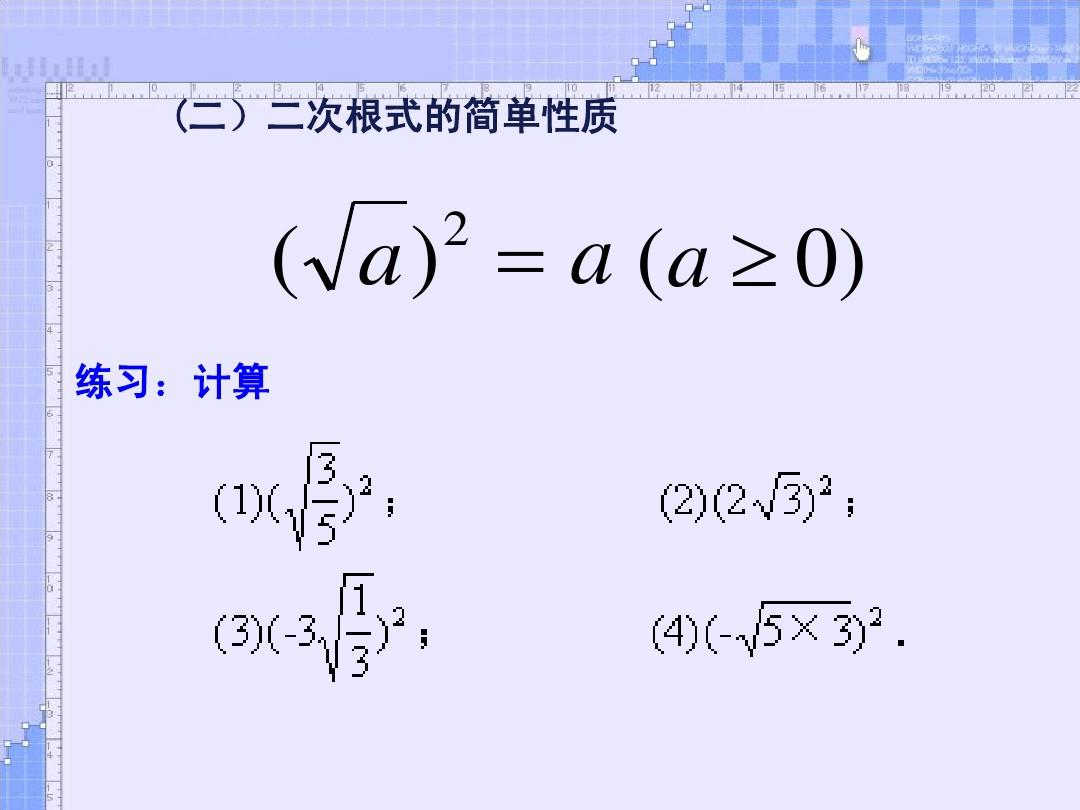division: (343, 626, 378, 637), (310, 496, 345, 506)
sqrt: (299, 194, 412, 296), (742, 594, 852, 664), (320, 569, 380, 689), (292, 436, 341, 554), (752, 469, 803, 527)
square: (446, 206, 468, 246), (353, 472, 378, 505), (815, 468, 836, 500), (867, 601, 885, 636), (386, 603, 410, 626)
